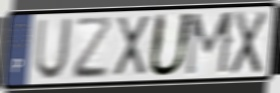M: (183, 9, 237, 79)
U: (145, 12, 196, 80), (32, 16, 74, 82)
X: (228, 9, 269, 77), (112, 13, 151, 79)
Z: (72, 14, 114, 82)
